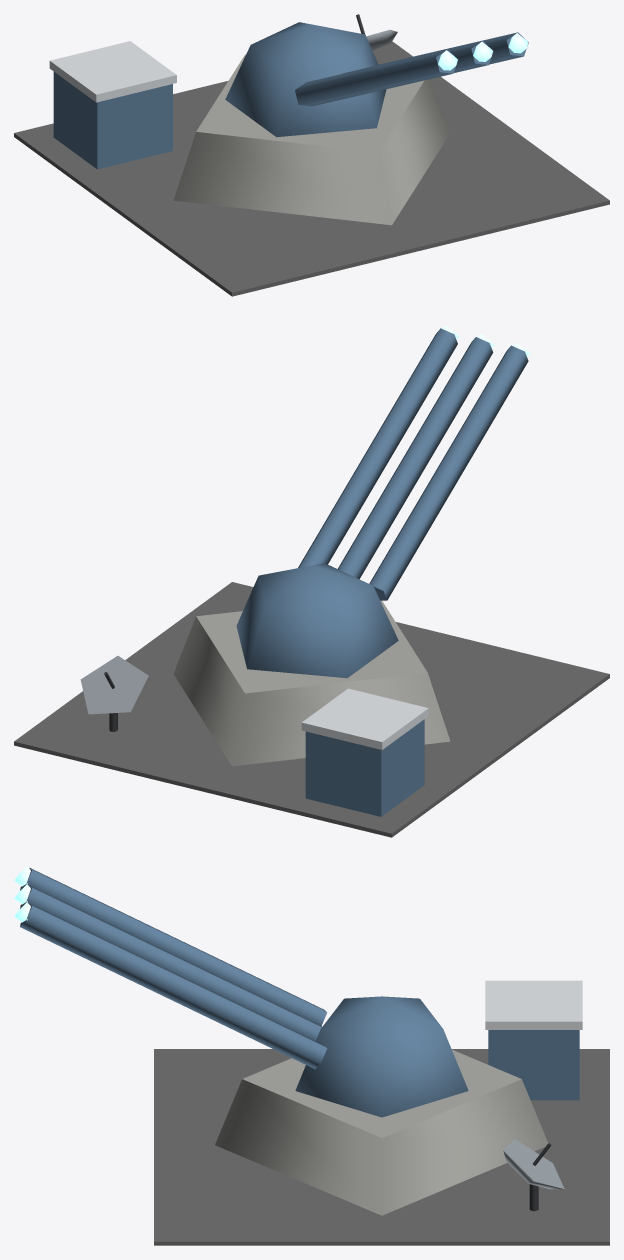
File: bld_special_planetary_defense_a10_lod2.glb
3 renders of one model, top to bottom at view 1: azimuth 30°, elevation 25°; view 2: azimuth 150°, elevation 25°; view 3: azimuth 270°, elevation 25°, orthographic. The views are drawn at different scales.
Parts seen in each view (by area): view 1: body, turret, antenna; view 2: body, turret, antenna; view 3: body, turret, antenna.
Boxes of the visible parts, x1,y1,x2,y2 form: body: (14, 41, 609, 296); turret: (225, 22, 528, 137); antenna: (356, 14, 397, 50); body: (14, 582, 609, 837); turret: (236, 325, 529, 678); antenna: (80, 656, 148, 731); body: (154, 980, 609, 1245); turret: (14, 866, 468, 1117); antenna: (503, 1139, 564, 1211).
Size of the model in its own units: 15 by 9.62 by 19.61.
